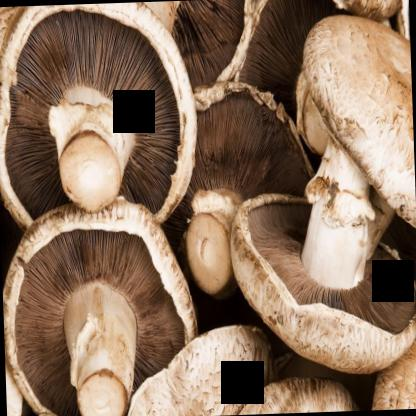mushroom: (0, 0, 201, 240), (0, 199, 200, 415), (228, 188, 415, 382), (168, 79, 313, 293), (301, 11, 415, 237)
